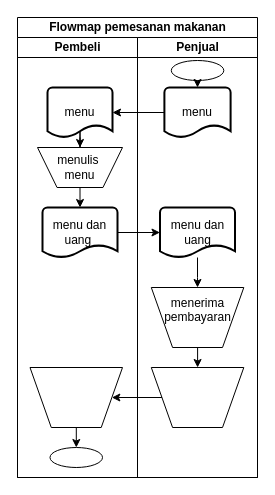
Some shapes in this 275 by 495 pixel diagram are drawn without their labels. Here are the shapes that lost their labels. From the top down, the box of each, then its label:
(170, 60, 224, 80): mulai
(29, 366, 122, 428): pembeli menerima pesanan
(150, 366, 244, 428): mengantarkan pesanan kepada pembeli
(49, 446, 102, 468): selesai
